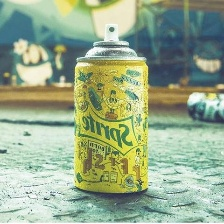aerosol_cans: (68, 19, 155, 198)
